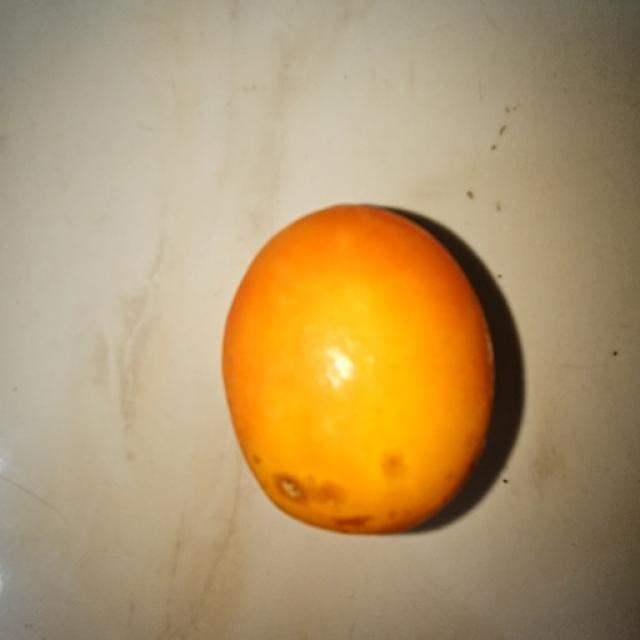Red: (219, 201, 496, 535)
